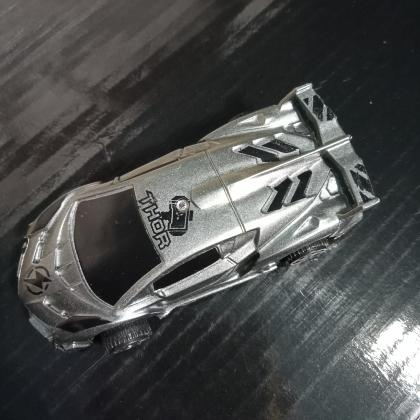Car: (15, 83, 380, 358)
